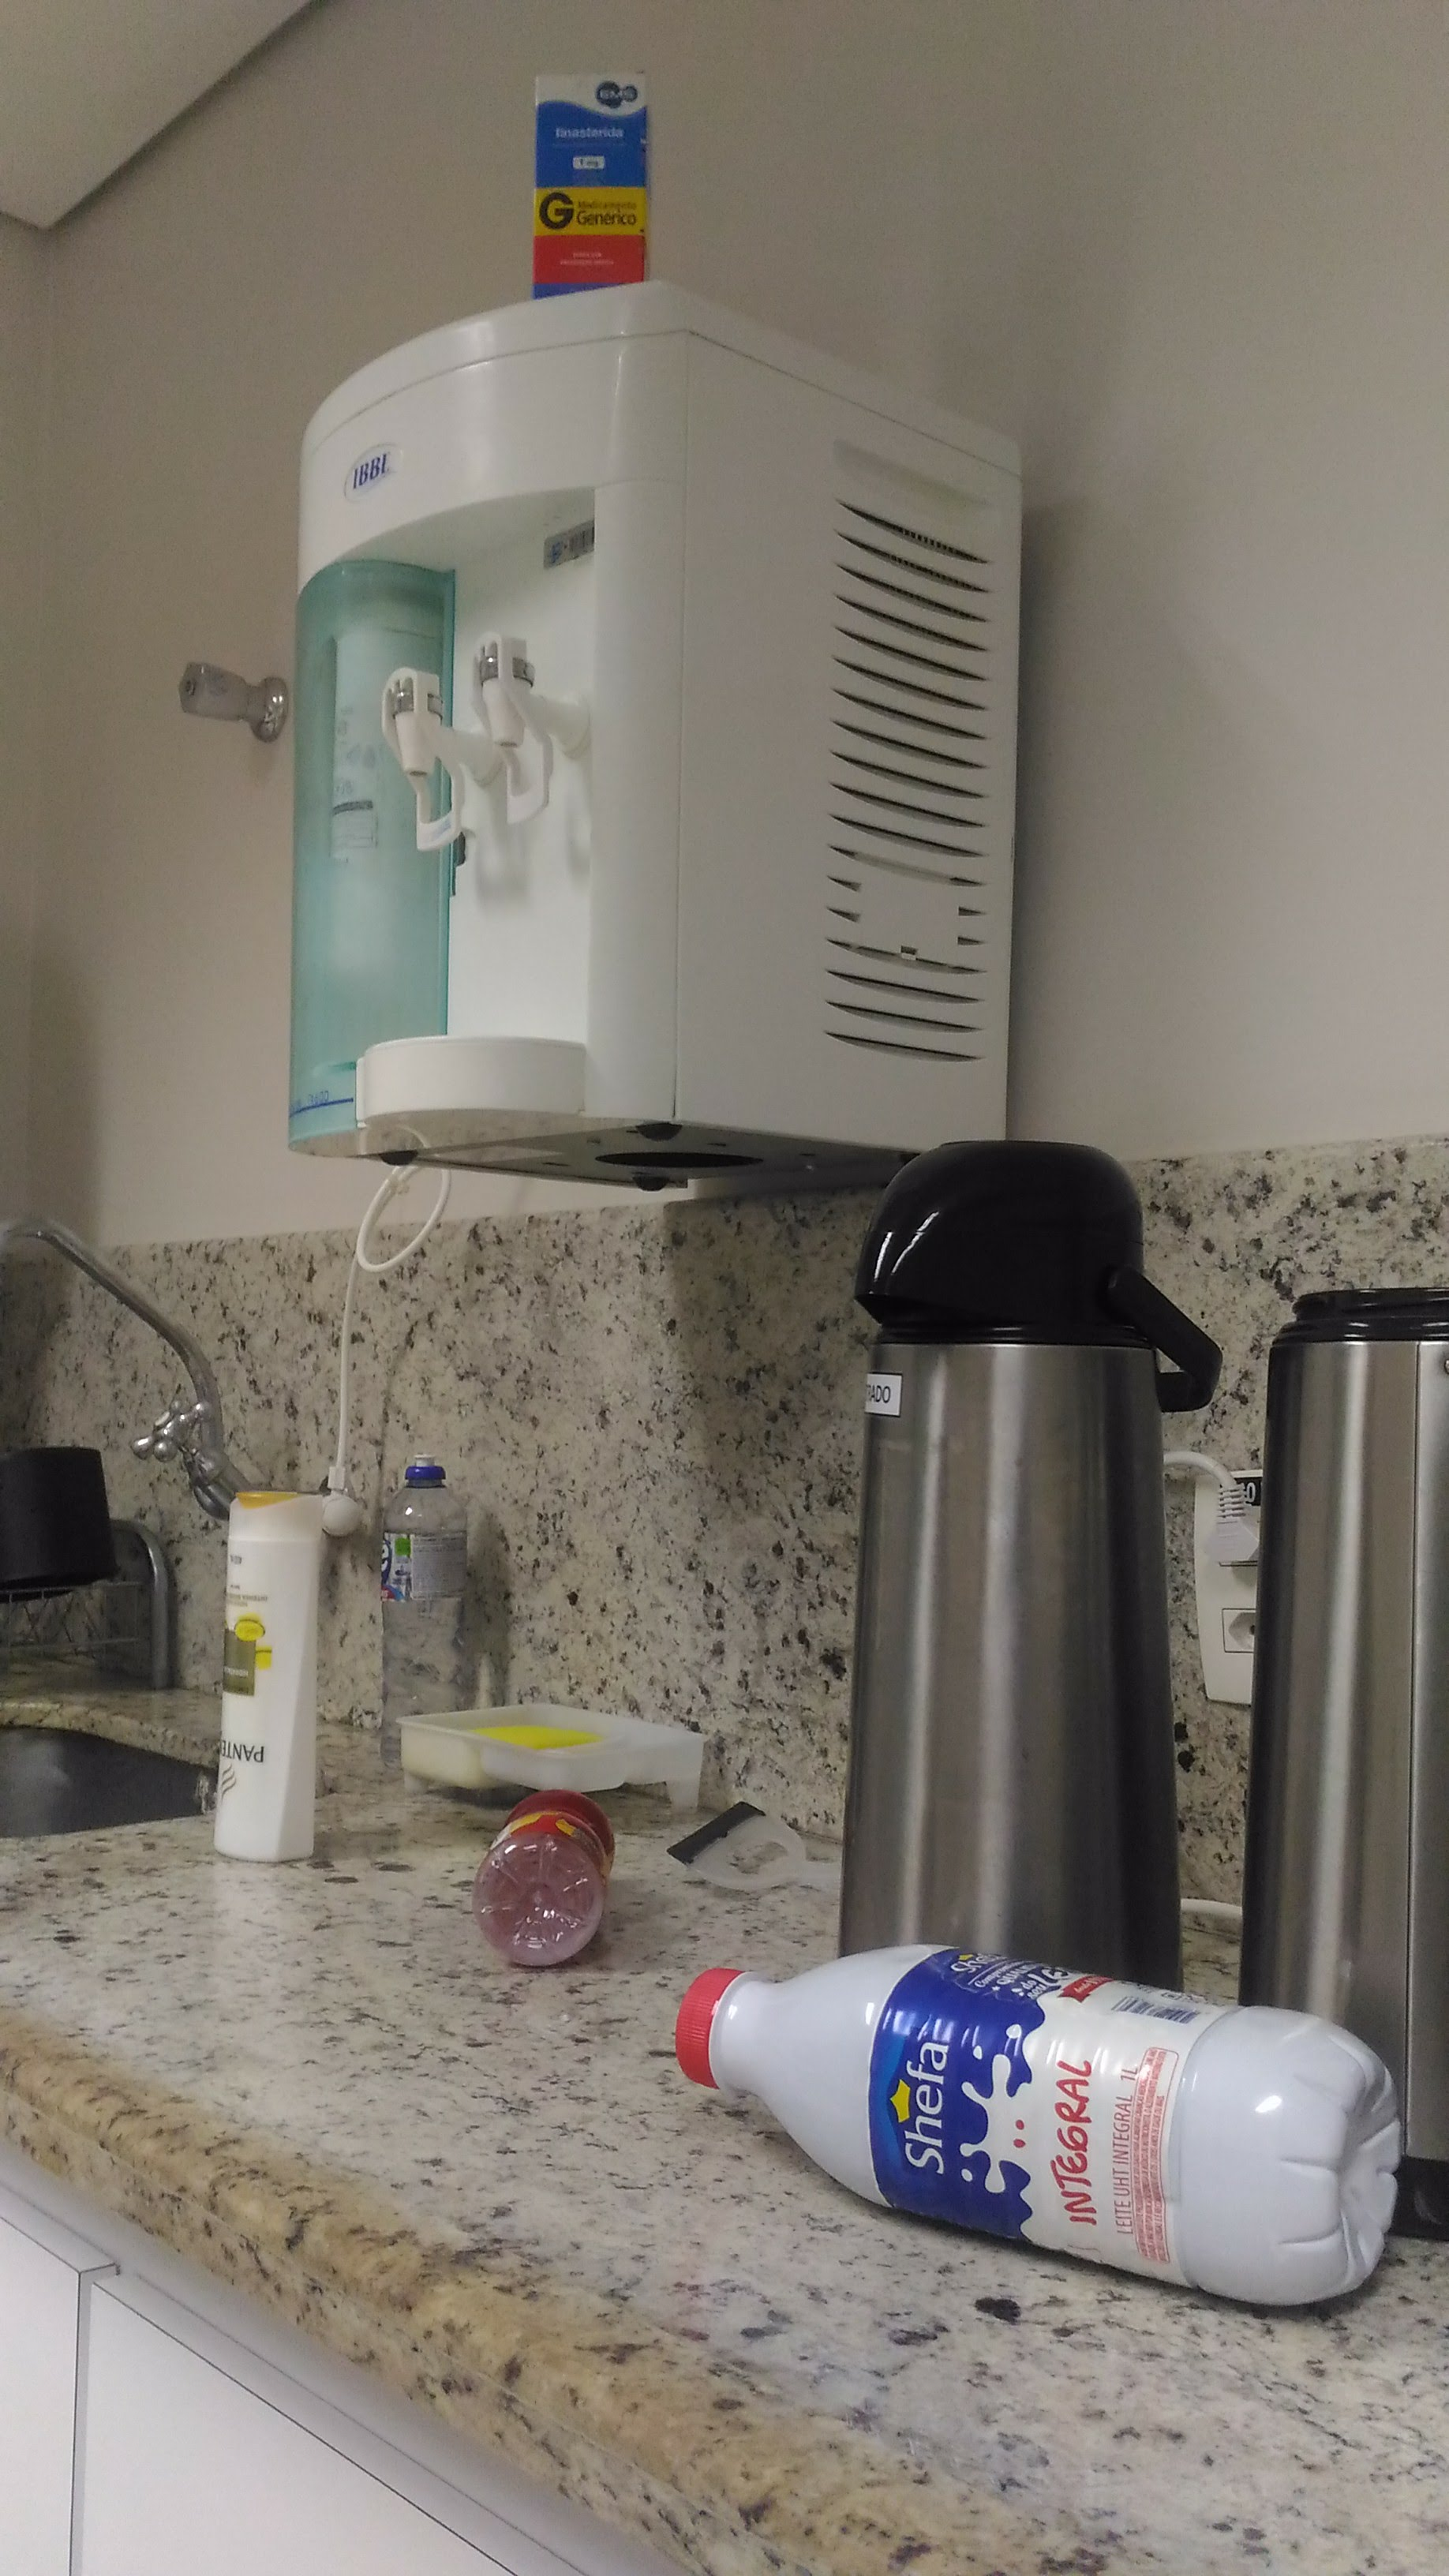iron_man: (470, 1776, 623, 1973)
medicine: (520, 64, 663, 301)
milk_bottle: (667, 1934, 1410, 2320)
shampoo: (208, 1477, 337, 1865)
